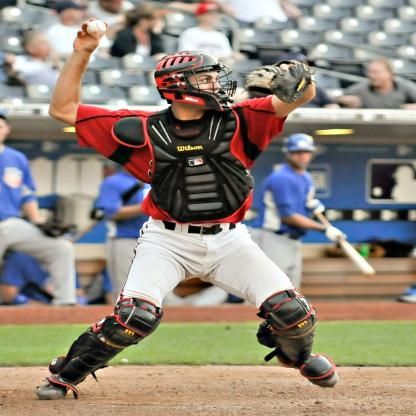Helmet: (151, 48, 235, 110), (282, 134, 320, 168)
